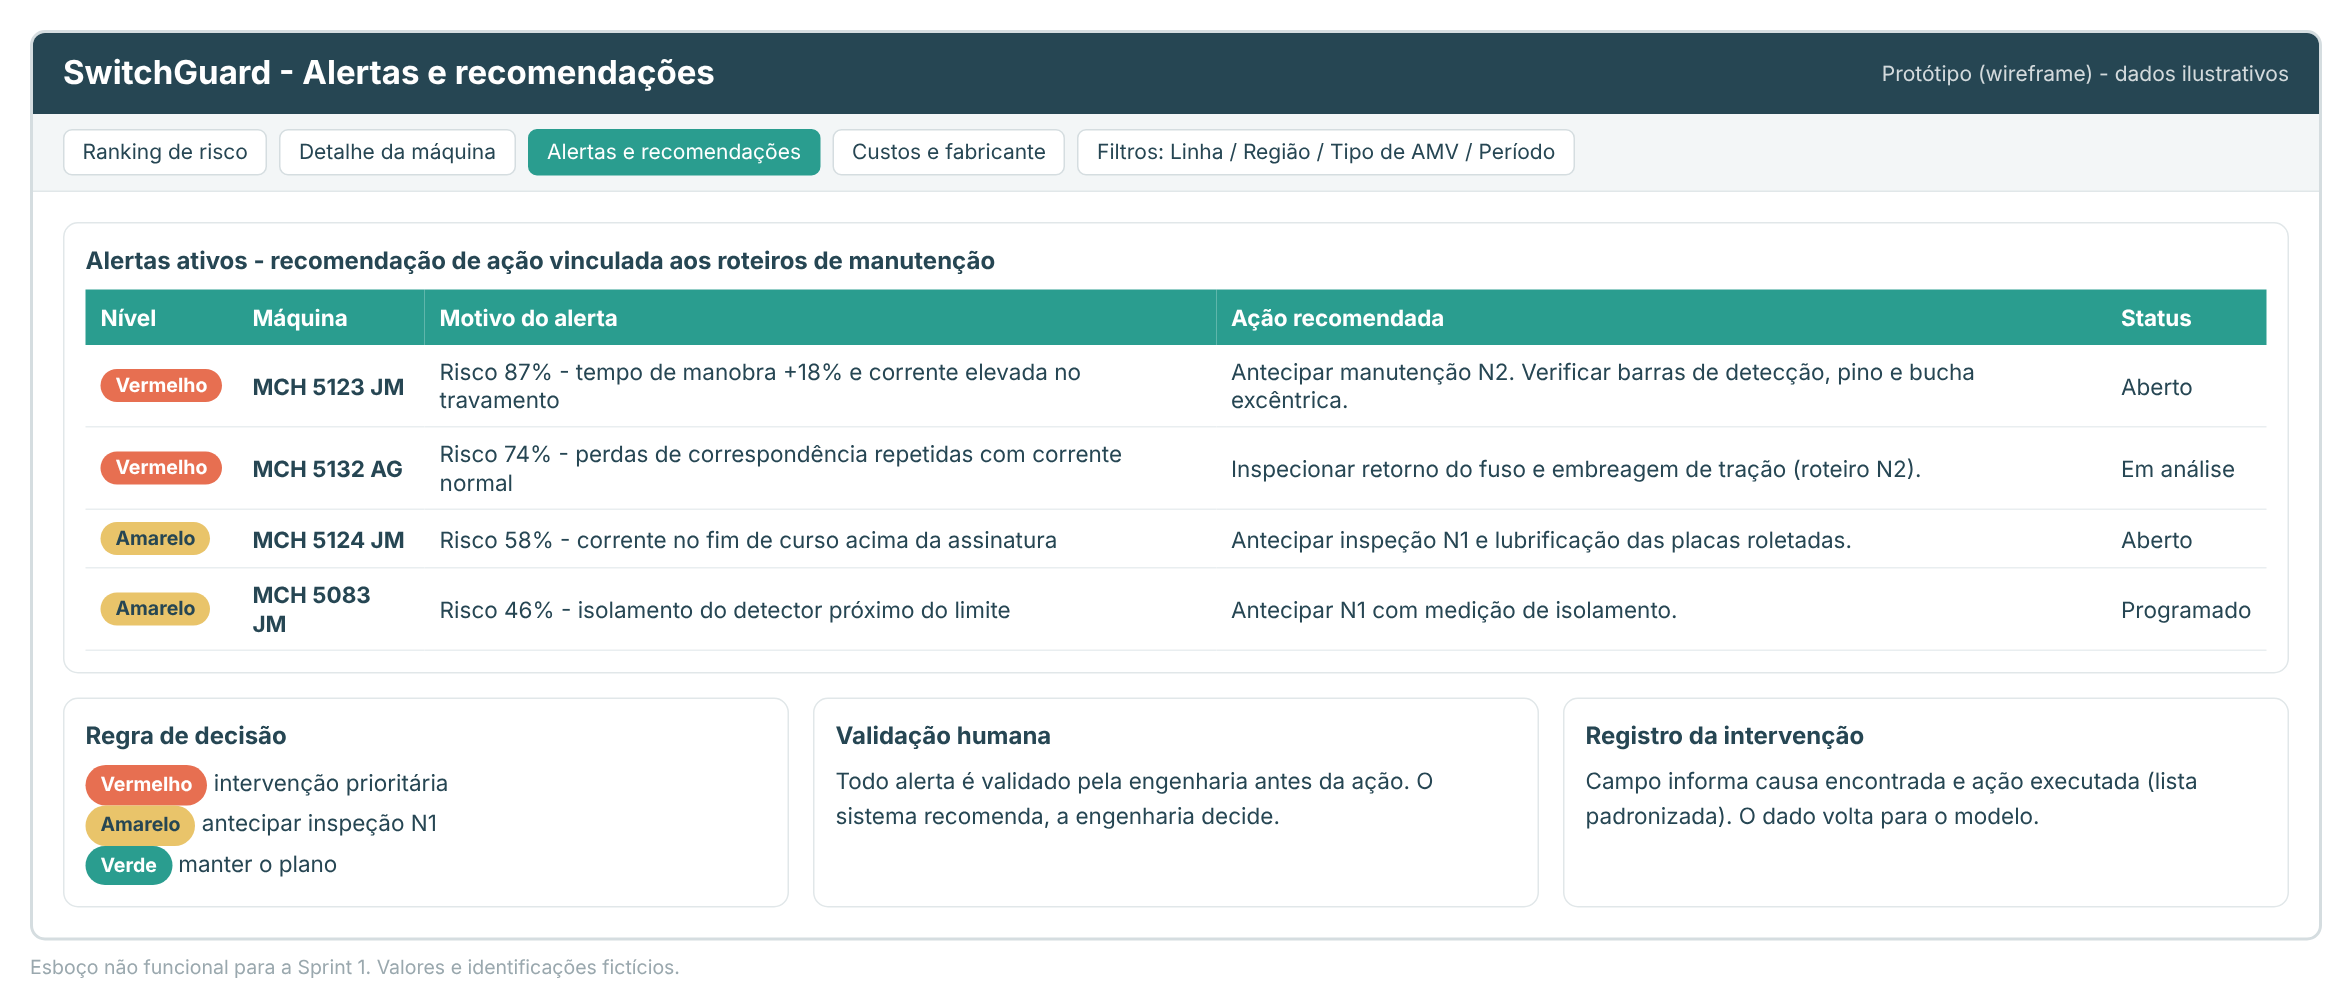

What the dashboard file says about the page in this screenshot:
{"tool":"powerbi","page":{"name":"Alertas e recomendações","canvas":[1280,720],"ordinal":2},"visuals":[{"type":"textbox","box":[0,0,1280,64],"z":25000},{"type":"textbox","box":[880,16,390,36],"z":26000},{"type":"card","fields":{"Values":["maquinas.Alertas ativos"]},"box":[20,76,300,84],"z":27000},{"type":"card","fields":{"Values":["maquinas.Qtd Vermelho"]},"box":[332,76,300,84],"z":28000},{"type":"card","fields":{"Values":["maquinas.Qtd Amarelo"]},"box":[644,76,300,84],"z":29000},{"type":"card","fields":{"Values":["maquinas.Custo corretivo evitado"]},"box":[956,76,304,84],"z":30000},{"type":"tableEx","title":"Alertas ativos · ação vinculada aos roteiros N1, N2 e N3","fields":{"Values":["alertas.nivel","alertas.maquina","alertas.motivo","alertas.acao_recomendada","alertas.status"]},"box":[19.3,196.2,1241.1,276.5],"z":31000},{"type":"textbox","box":[20,484,403,220],"z":32000},{"type":"textbox","box":[438,484,403,220],"z":33000},{"type":"textbox","box":[856,484,407,220],"z":34000}]}

Visuals, with their boxes on the page's 1280x720 design canvas (x1, y1, x2, y2). These are canvas units, not pixel positions in the 2352x1008 screenshot, which may show the page scaled, cropped or inside an application window:
textbox: BBox(0, 0, 1280, 64)
textbox: BBox(880, 16, 1270, 52)
card - maquinas.Alertas ativos: BBox(20, 76, 320, 160)
card - maquinas.Qtd Vermelho: BBox(332, 76, 632, 160)
card - maquinas.Qtd Amarelo: BBox(644, 76, 944, 160)
card - maquinas.Custo corretivo evitado: BBox(956, 76, 1260, 160)
"Alertas ativos · ação vinculada aos roteiros N1, N2 e N3" tableEx: BBox(19, 196, 1260, 473)
textbox: BBox(20, 484, 423, 704)
textbox: BBox(438, 484, 841, 704)
textbox: BBox(856, 484, 1263, 704)
